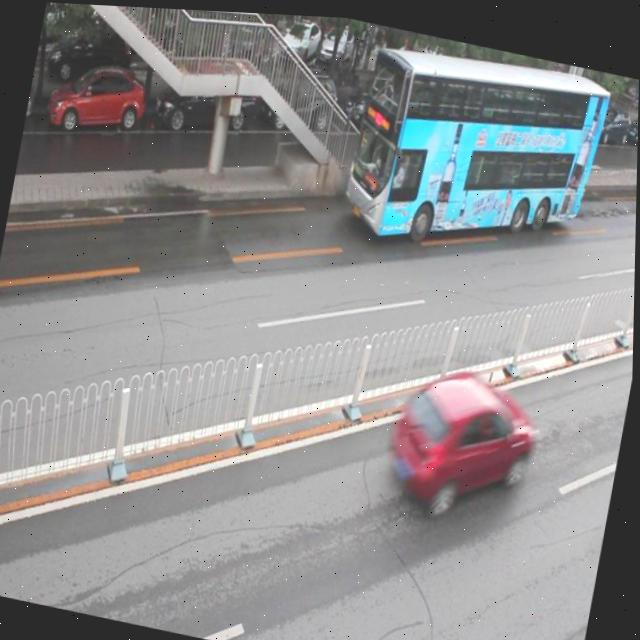car: (380, 353, 547, 527), (44, 55, 149, 146), (150, 62, 260, 144), (336, 66, 430, 147), (259, 61, 340, 137), (430, 99, 497, 174), (545, 615, 589, 640)
van: (337, 22, 615, 275)
